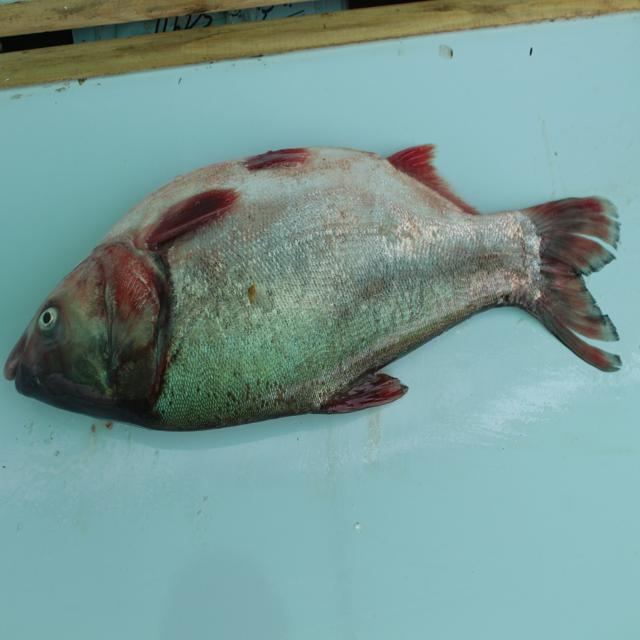SilverCarp: (8, 138, 637, 445)
